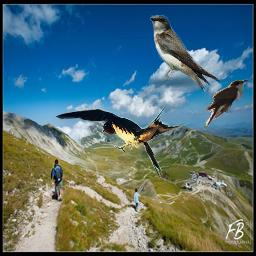Cuckoo: (204, 79, 248, 132)
Swallow: (53, 102, 202, 180), (150, 15, 221, 92)
